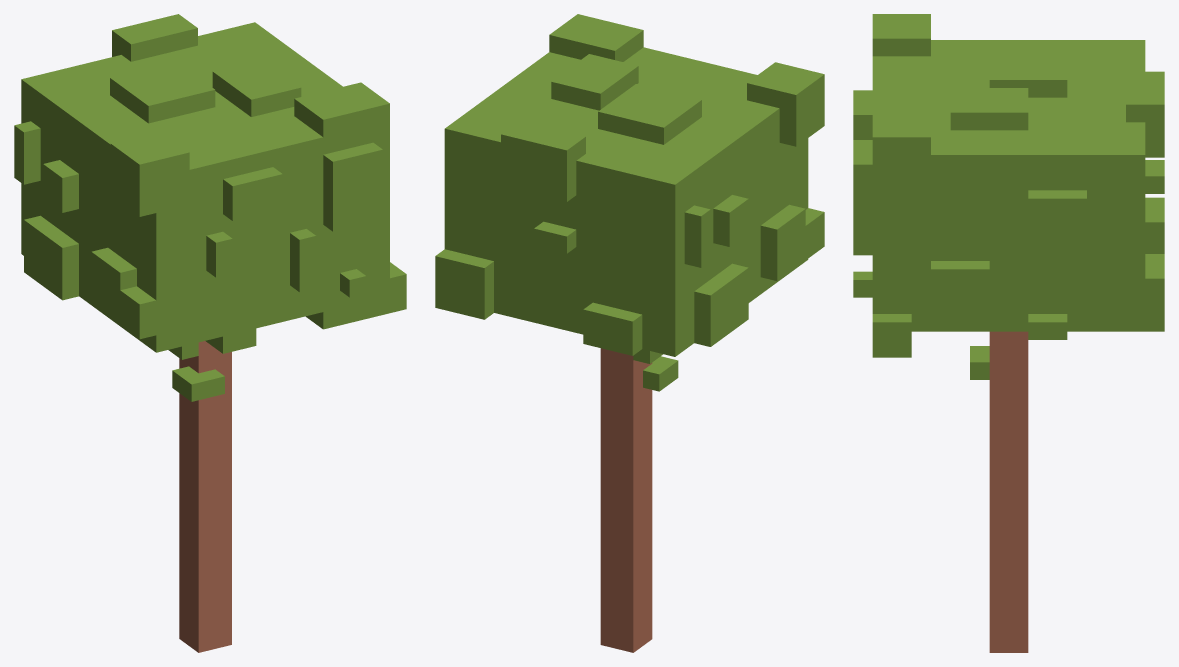
Rendered from Tree5.obj.
3 views of the same model, side by side, from view 1: azimuth 30°, elevation 25°; view 2: azimuth 150°, elevation 25°; view 3: azimuth 270°, elevation 25° (orthographic). The views are drawn at different scales.
Parts seen in each view (by area): view 1: Tree5; view 2: Tree5; view 3: Tree5.
Part boxes in pixels (bbox=[...]): Tree5: bbox=[14, 14, 406, 652]; Tree5: bbox=[435, 14, 824, 652]; Tree5: bbox=[853, 14, 1164, 652].
Bounding box in the file's own units: 16 × 32 × 16.
Materials: 1 (1 with a texture image).
